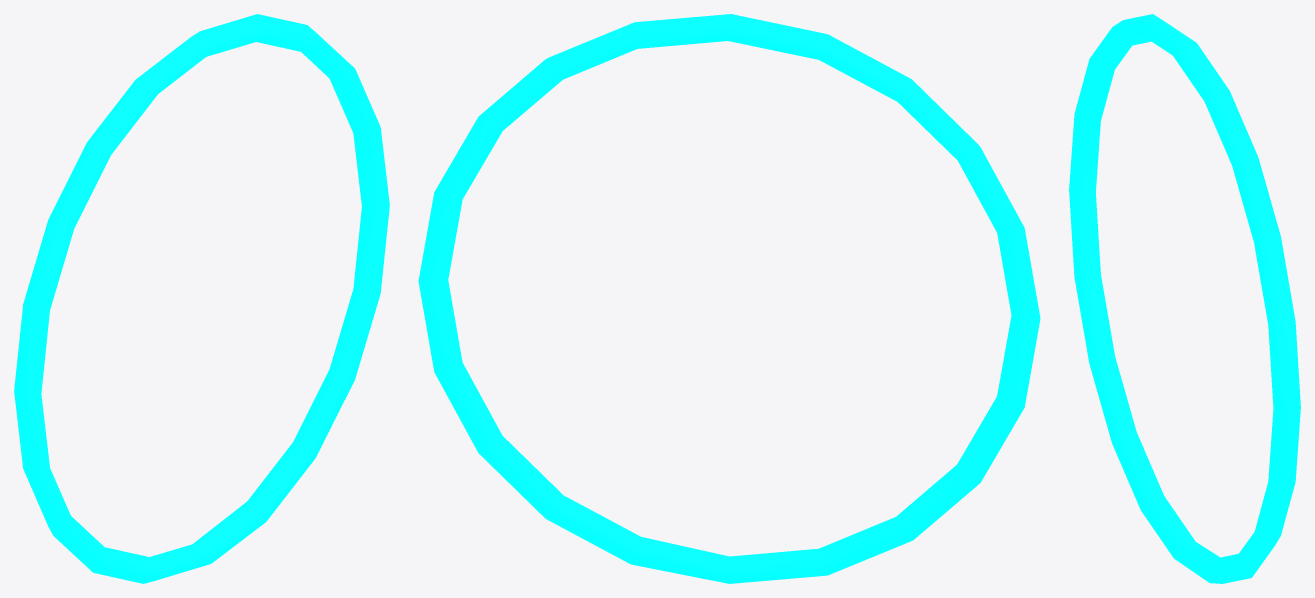
The model's file is Teletransporte.fbx.
3 views of the same model, side by side, from view 1: azimuth 30°, elevation 25°; view 2: azimuth 150°, elevation 25°; view 3: azimuth 270°, elevation 25° (orthographic). The views are drawn at different scales.
Visible parts, largest first — view 1: Teletransporte; view 2: Teletransporte; view 3: Teletransporte.
Part boxes in pixels (x1,y1,x2,y2): Teletransporte: [14, 14, 389, 583]; Teletransporte: [418, 14, 1040, 583]; Teletransporte: [1069, 14, 1300, 583].
Size of the model in its own units: 20.07 by 21.59 by 8.63.
